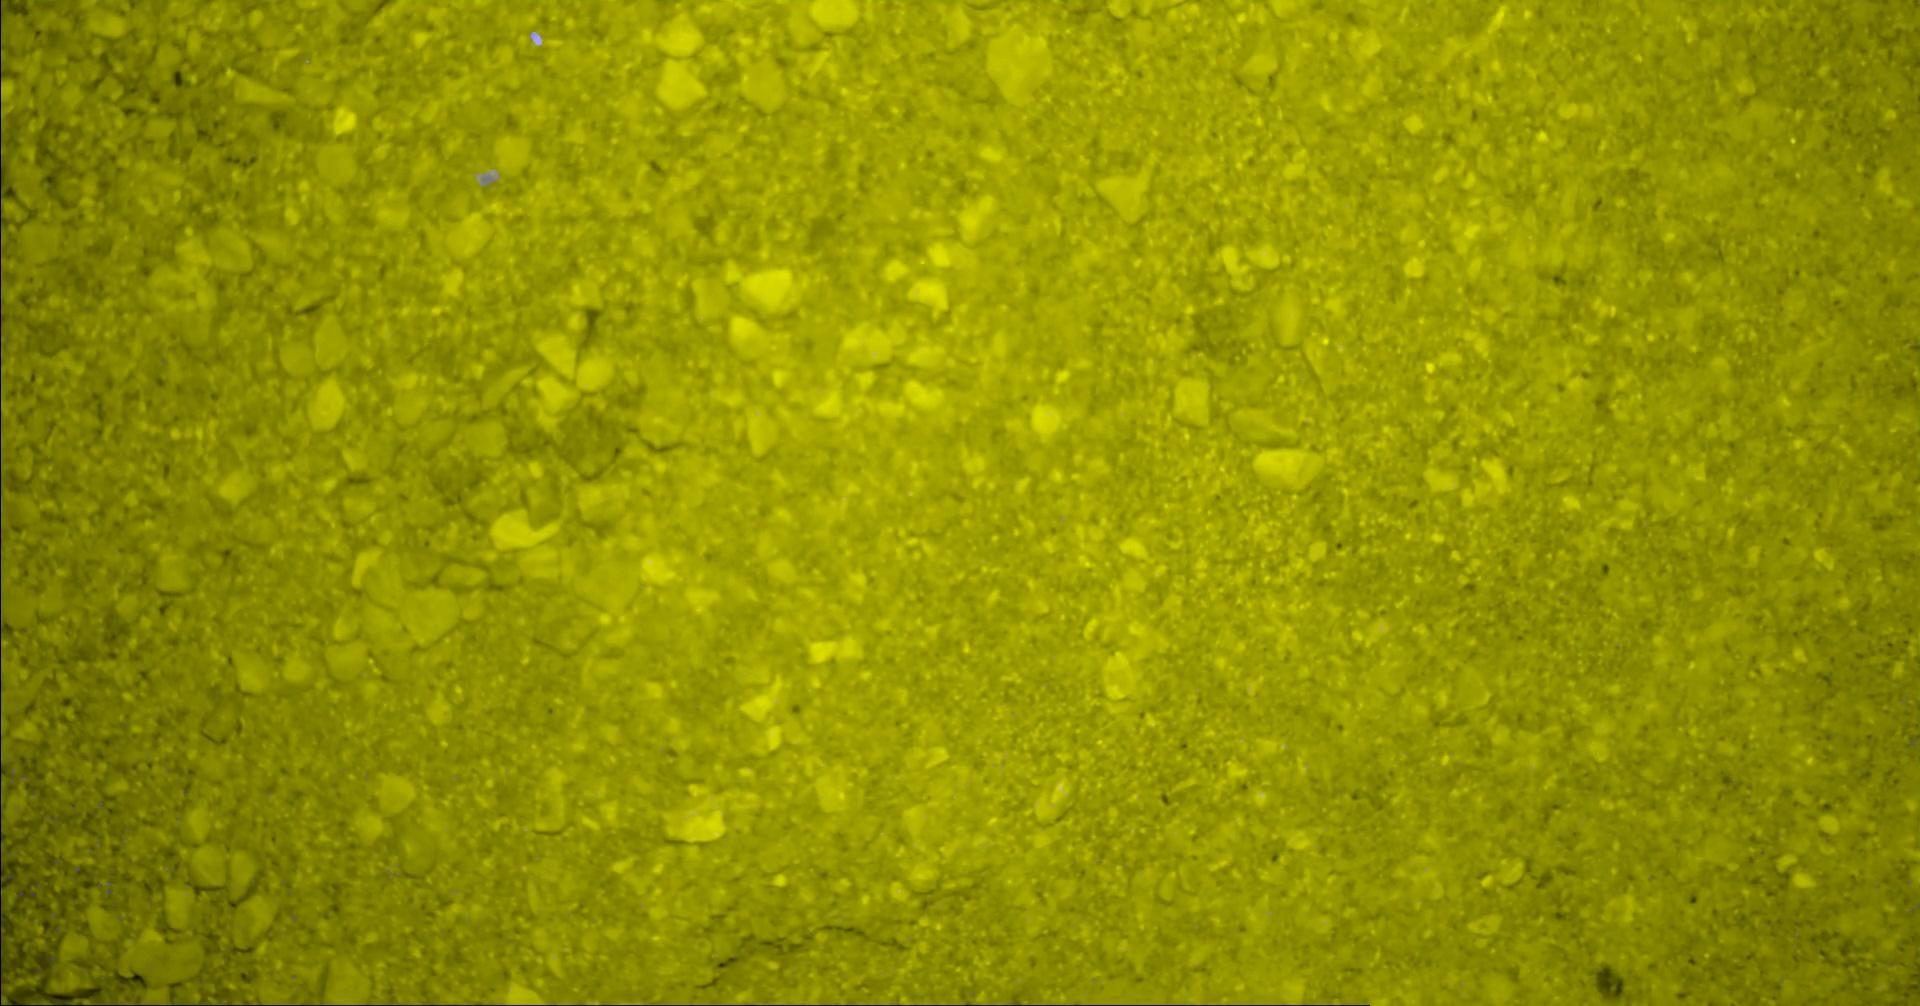ant: (0, 805, 3, 864)
